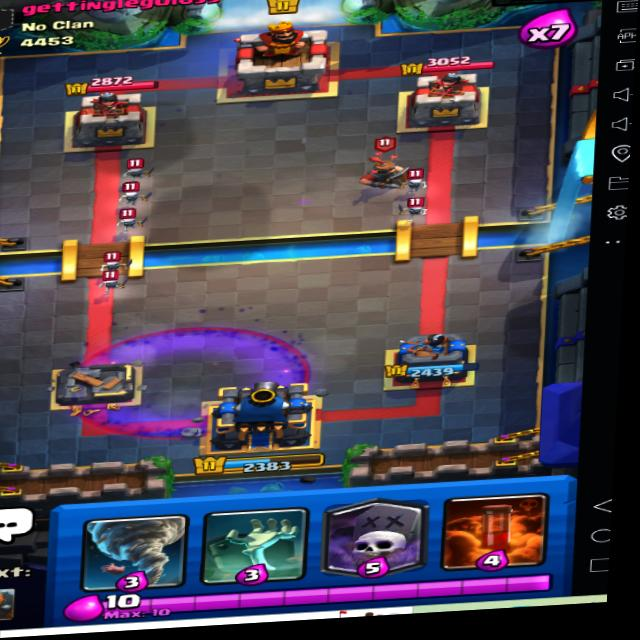graveyard: (71, 309, 322, 450)
royal-recruits: (348, 144, 413, 200)
skeleton: (396, 166, 433, 195), (94, 263, 127, 295), (95, 247, 130, 276), (121, 153, 157, 181), (104, 206, 145, 230), (113, 180, 149, 207), (402, 196, 433, 218)
